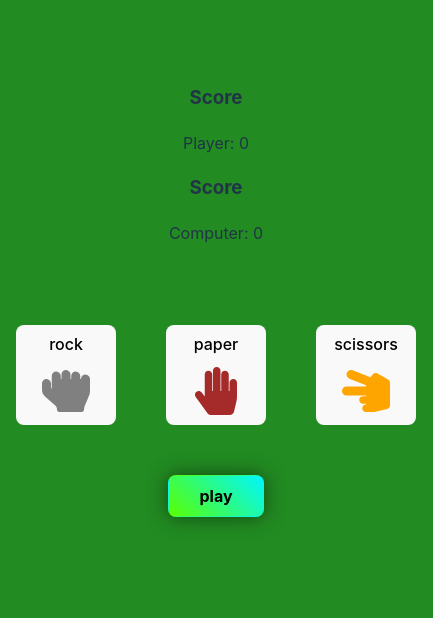
Test case: Score And Result › Should display the computer and player hand shaking when playing
Click the button "rock": (66, 374) left=16, top=324, right=116, bottom=424
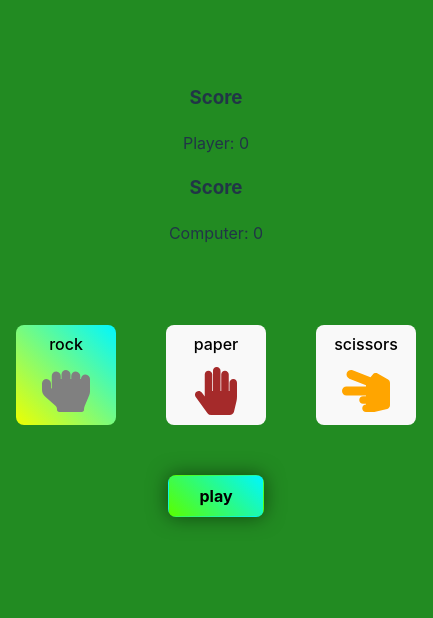
Click the button "play": (216, 496) left=168, top=474, right=264, bottom=516
Wait 2000 ms
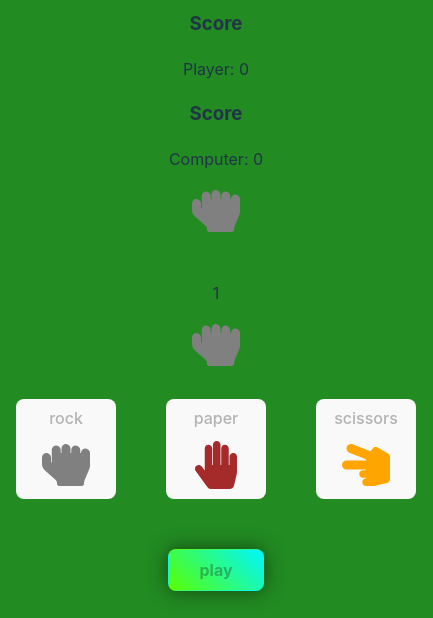
Expected: the element with test id "playerShake" is shown, left=192, top=186, right=240, bottom=234
Expected: the element with test id "computerShake" is shown, left=192, top=320, right=240, bottom=368
